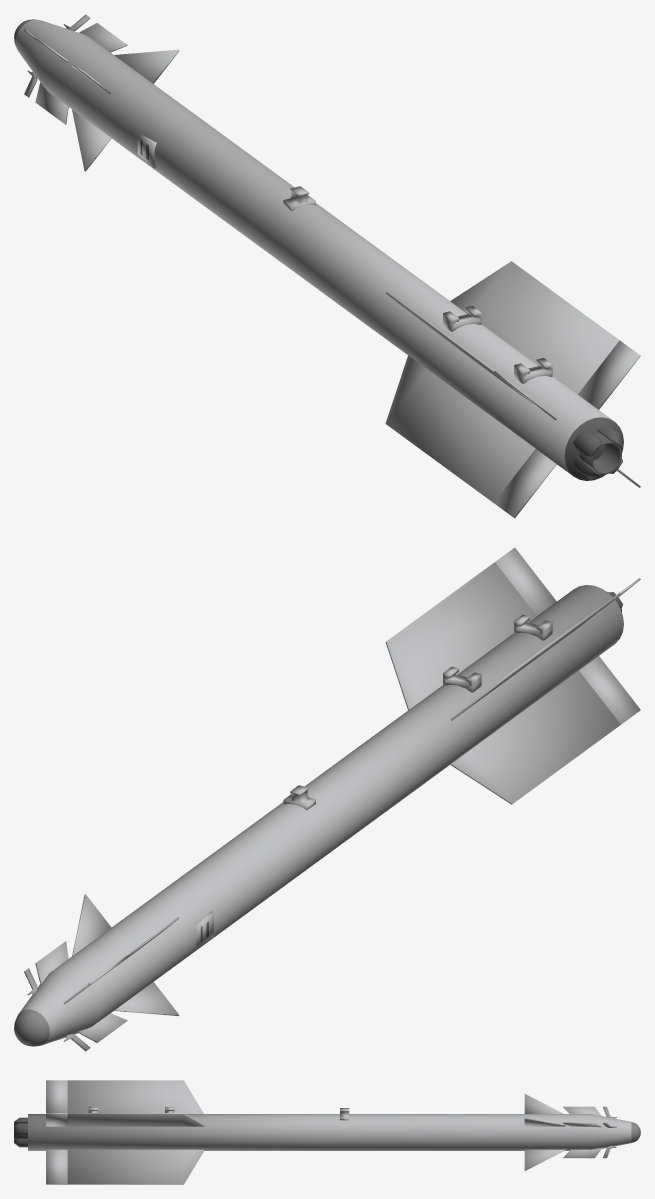
3 views of the same model, one above another, from view 1: azimuth 30°, elevation 25°; view 2: azimuth 150°, elevation 25°; view 3: azimuth 270°, elevation 25° (orthographic). The views are drawn at different scales.
Visible parts, largest first — view 1: aa11_body; view 2: aa11_body; view 3: aa11_body.
Part boxes in pixels (x1,y1,x2,y2): aa11_body: (14,14,640,518); aa11_body: (14,547,640,1051); aa11_body: (14,1080,640,1184).
Size of the model in its own units: 0.3578 by 0.3578 by 2.84.
1 material, 1 textured.
